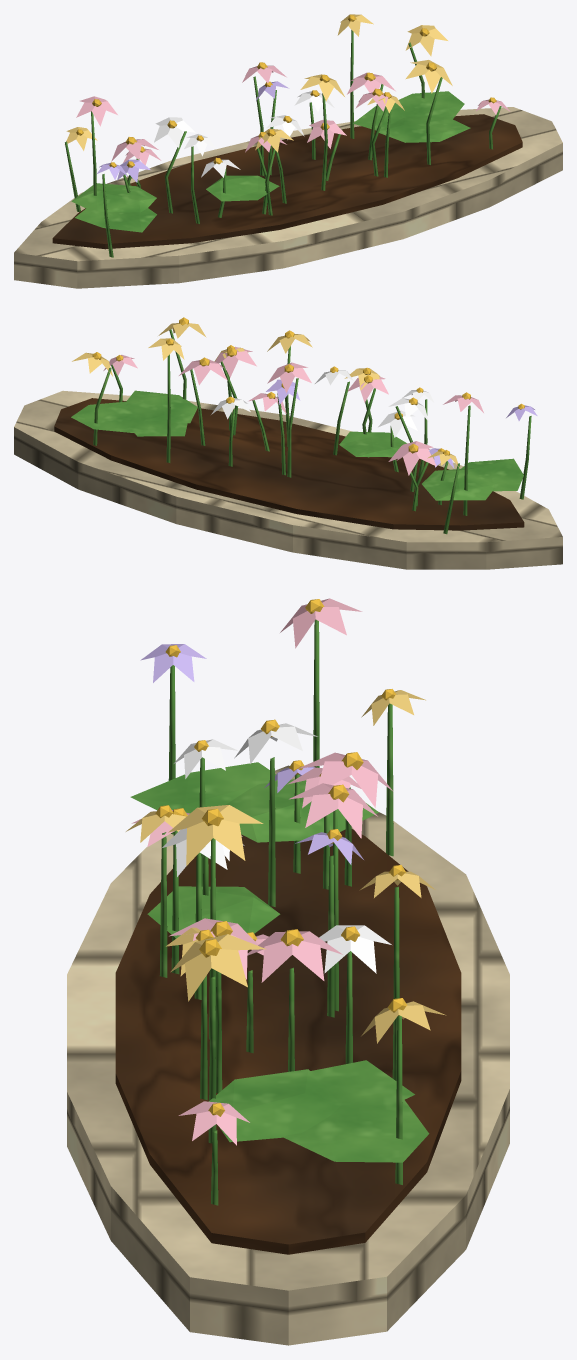
The model's file is flower_bed_sky_a.glb.
The picture shows the model from 3 angles, top to bottom: view 1: azimuth 30°, elevation 25°; view 2: azimuth 150°, elevation 25°; view 3: azimuth 270°, elevation 25°; orthographic projection. The views are drawn at different scales.
Visible parts, largest first — view 1: flower_bed_sky_a; view 2: flower_bed_sky_a; view 3: flower_bed_sky_a.
Part boxes in pixels (box(x1,y1,x2,y2)): flower_bed_sky_a: box(14, 14, 562, 288); flower_bed_sky_a: box(14, 317, 562, 569); flower_bed_sky_a: box(67, 598, 509, 1345).
Size of the model in its own units: 3.28 by 0.9067 by 1.17.
4 materials, 3 textured.
